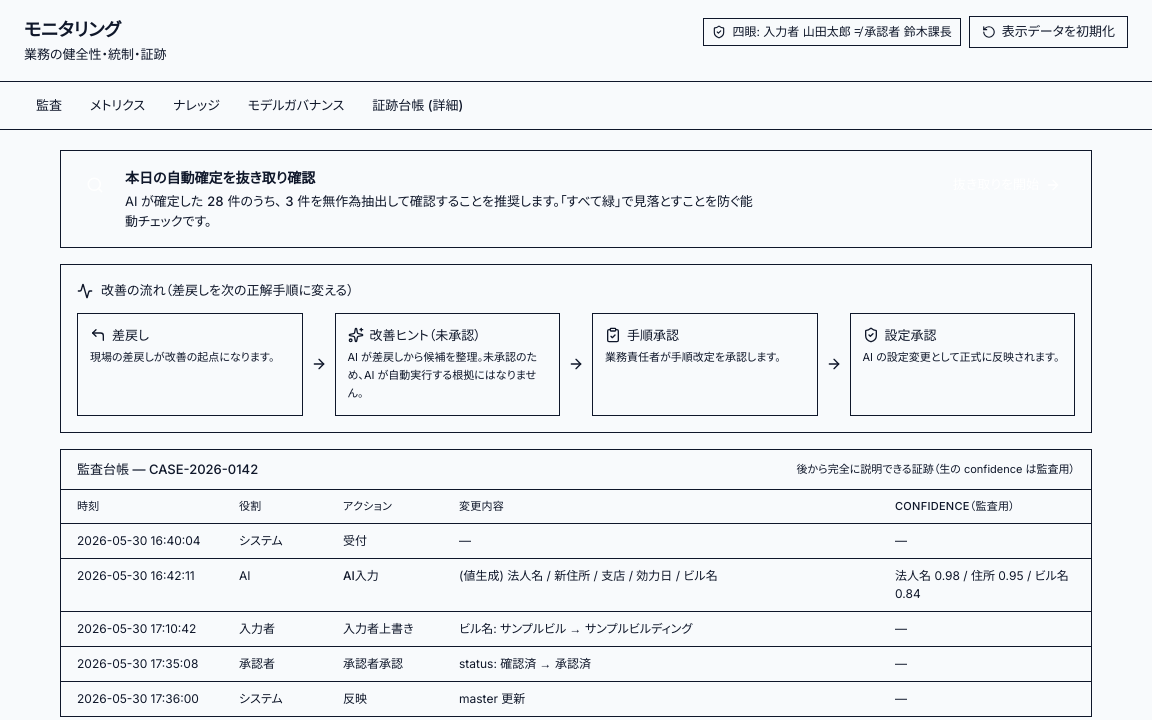
P1-7a ObservatoryV2 drill › 証跡台帳: free-text 検索で案件を絞り込む (P1-7b)
This screenshot has width=1152, height=720.
Click the button "証跡台帳 (詳細)" at (418, 105), box [360, 90, 475, 121]
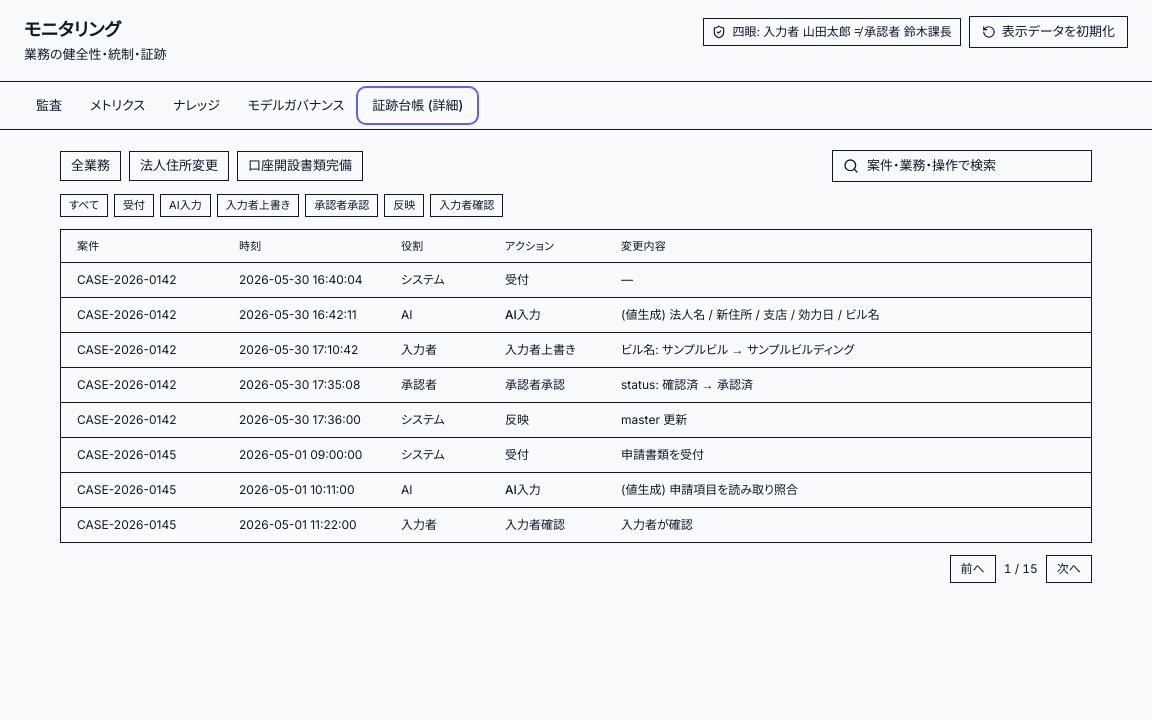
Type "CASE-2026-0112" into the search field named "証跡台帳を検索" at (974, 166), box [867, 156, 1081, 176]
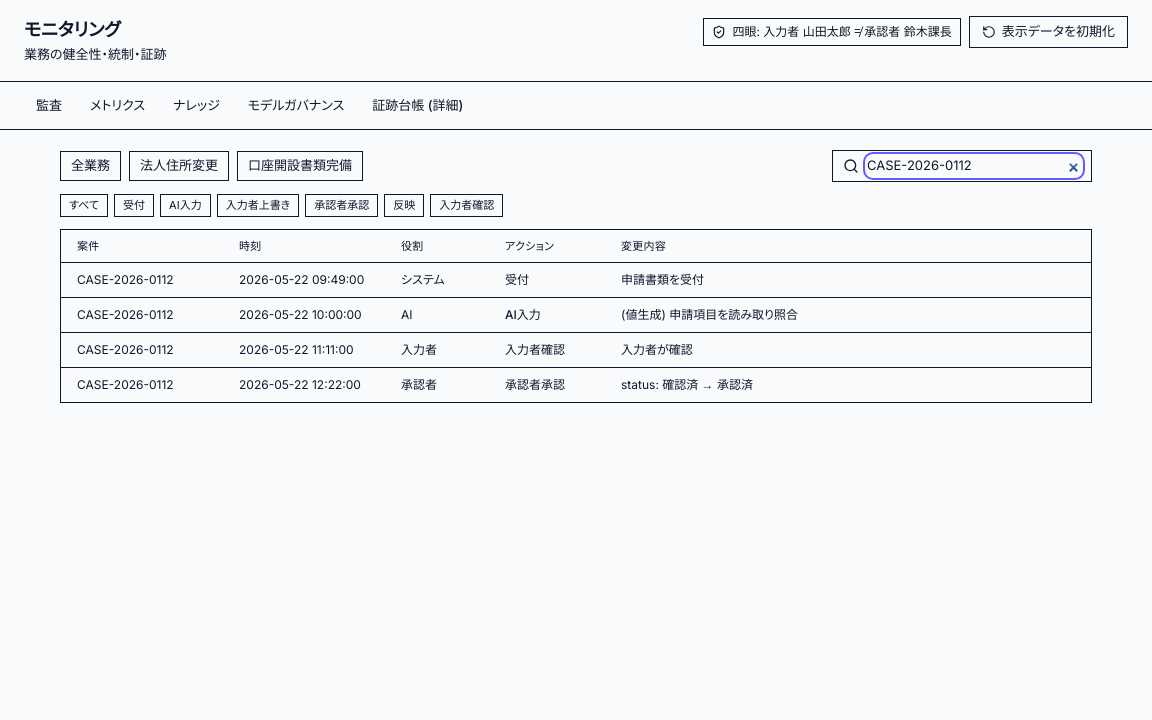
Check: the link "CASE-2026-0112" next to "2026-05-22 09:49:00" is shown, box [77, 272, 174, 287]
Check: the link "CASE-2026-0145" is gone
